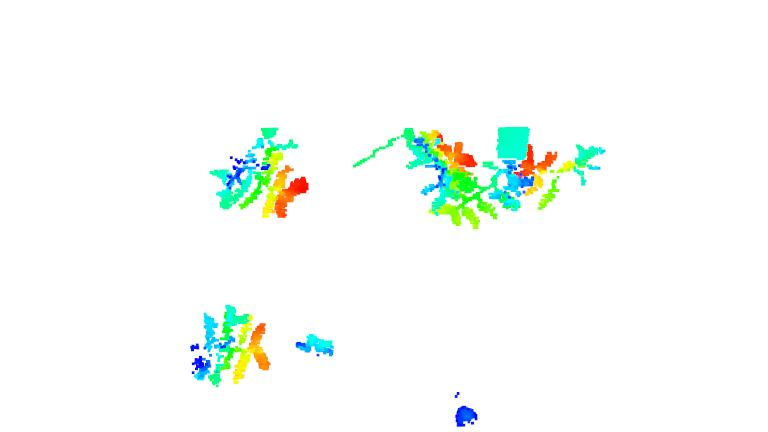chickpea: (215, 127, 321, 222), (171, 302, 277, 387), (515, 129, 608, 208), (400, 124, 481, 202), (431, 167, 531, 218), (297, 331, 341, 367)
